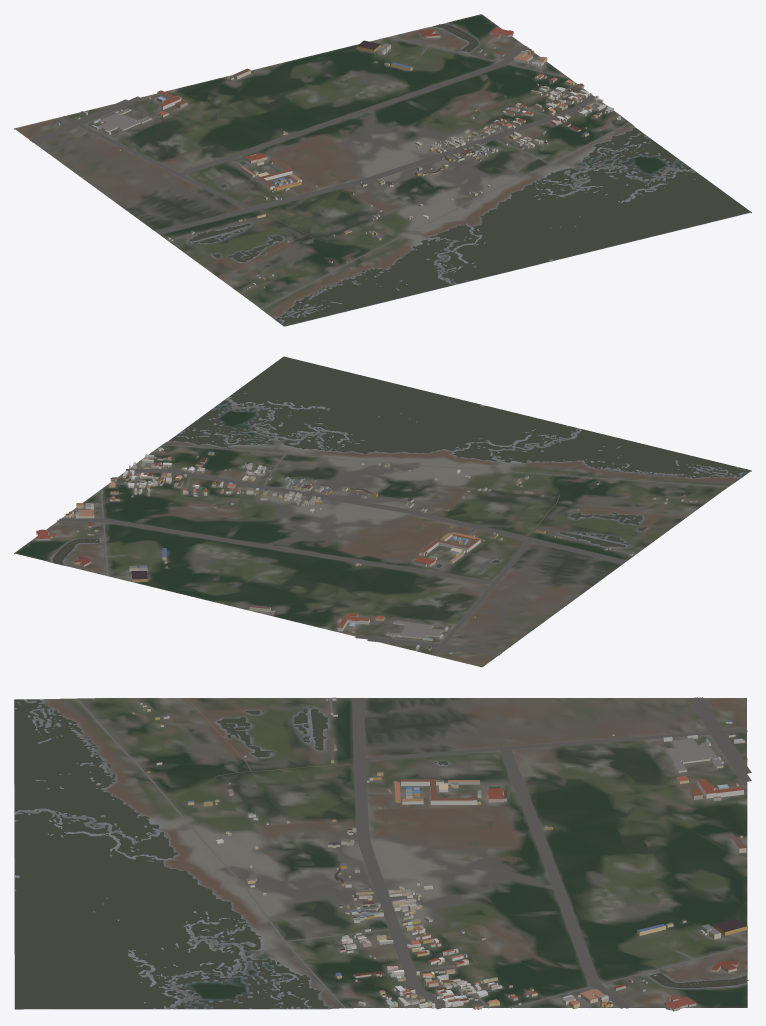
3 views of the same model, one above another, from view 1: azimuth 30°, elevation 25°; view 2: azimuth 150°, elevation 25°; view 3: azimuth 270°, elevation 25° (orthographic). The views are drawn at different scales.
Visible parts, largest first — view 1: ground, water, buildings, roads; view 2: ground, water, buildings, roads; view 3: ground, water, buildings, roads.
Part boxes in pixels (x1,y1,x2,y2): ground: (14,14,751,326); water: (188,23,750,325); buildings: (56,27,620,289); roads: (30,37,629,309); ground: (14,361,751,667); water: (52,356,750,567); buildings: (36,447,696,654); roads: (57,444,728,655); ground: (14,698,747,1009); water: (14,699,748,1008); buildings: (132,697,746,1011); roads: (76,697,751,1009).
Bounding box in the file's own units: 1419 × 15.94 × 1410.
